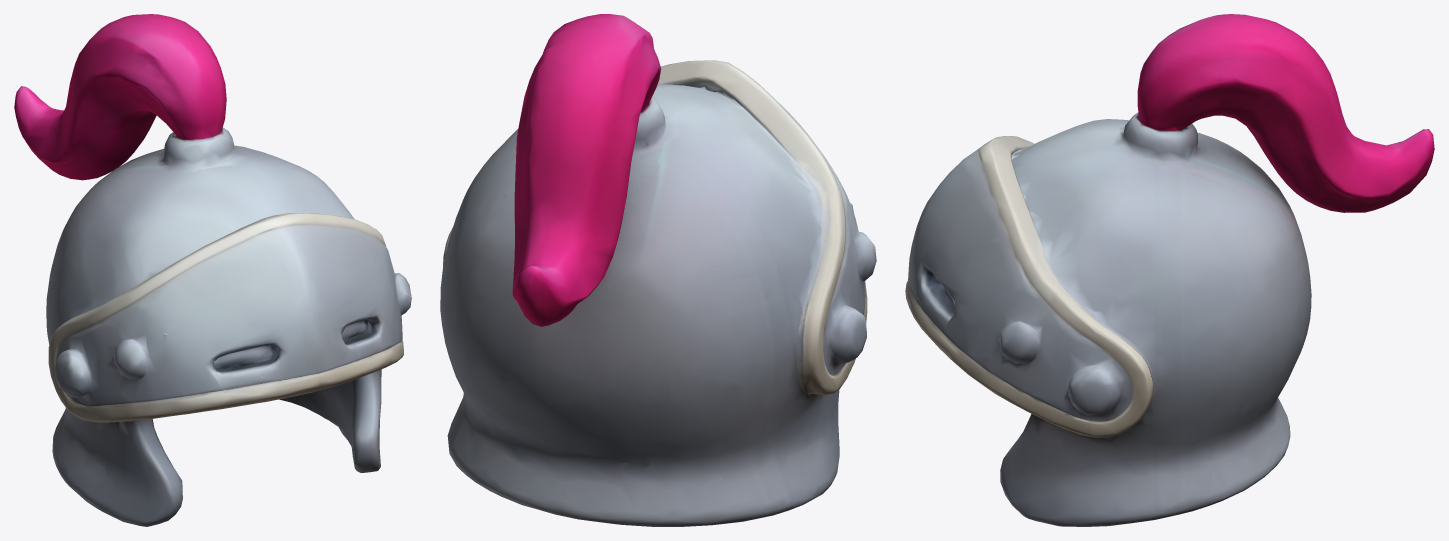
File: cs-knight-helm.glb
3 views of the same model, side by side, from view 1: azimuth 30°, elevation 25°; view 2: azimuth 150°, elevation 25°; view 3: azimuth 270°, elevation 25° (orthographic). The views are drawn at different scales.
Parts seen in each view (by area): view 1: tripo_node_d8e30176-1b1f-49b4-a9c3-036e91c2bd56; view 2: tripo_node_d8e30176-1b1f-49b4-a9c3-036e91c2bd56; view 3: tripo_node_d8e30176-1b1f-49b4-a9c3-036e91c2bd56.
Boxes of the visible parts, x1,y1,x2,y2 form: tripo_node_d8e30176-1b1f-49b4-a9c3-036e91c2bd56: [14, 14, 411, 526]; tripo_node_d8e30176-1b1f-49b4-a9c3-036e91c2bd56: [440, 14, 876, 526]; tripo_node_d8e30176-1b1f-49b4-a9c3-036e91c2bd56: [905, 14, 1434, 526].
Bounding box in the file's own units: 0.7805 × 0.9106 × 1.
1 material, 1 textured.
